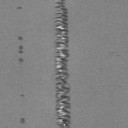slag inclusion: (56, 49, 71, 128), (55, 0, 69, 48), (18, 46, 23, 54), (20, 118, 25, 124), (18, 58, 24, 62), (18, 36, 22, 40)
